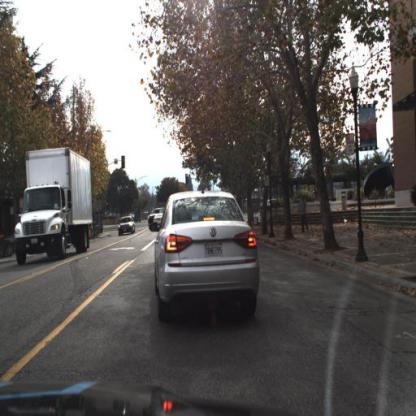car: (147, 189, 269, 329), (147, 205, 167, 226), (119, 216, 138, 237), (154, 213, 163, 227), (264, 200, 280, 207)
pedestrian: (301, 193, 311, 235), (300, 195, 310, 233)
trafficLight-Red: (185, 172, 190, 187)
truck: (13, 146, 98, 265)
